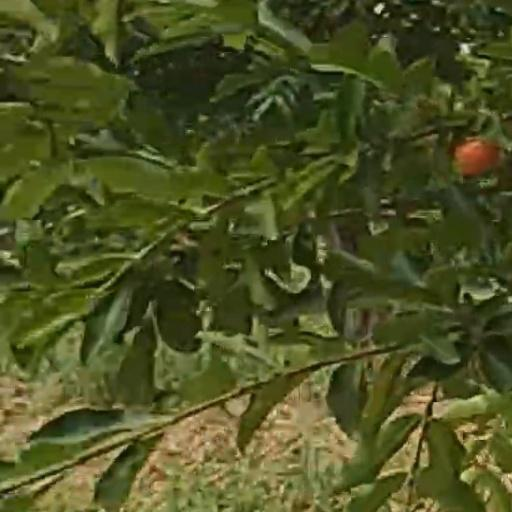acerola: (457, 142, 494, 176)
